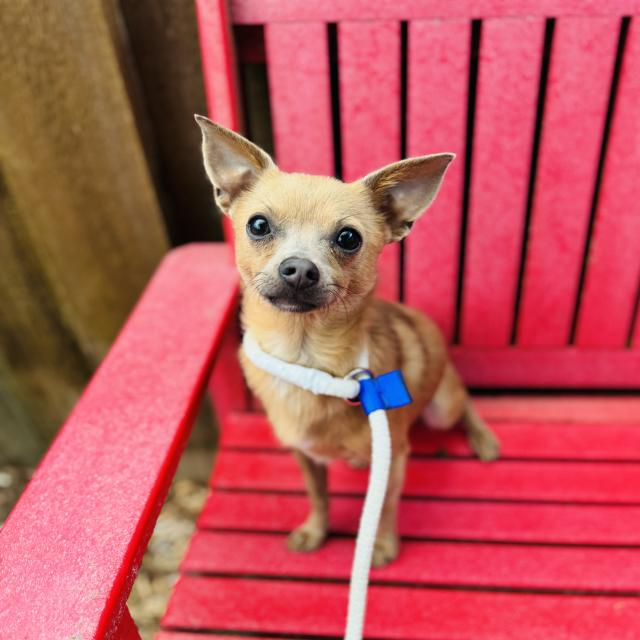chihuahua_dog: (186, 103, 464, 340)
